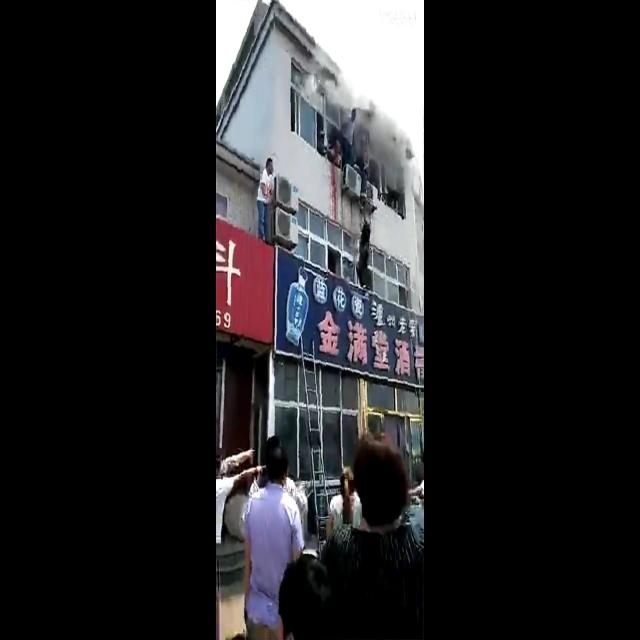smoke: (365, 106, 412, 186), (318, 51, 358, 118)
